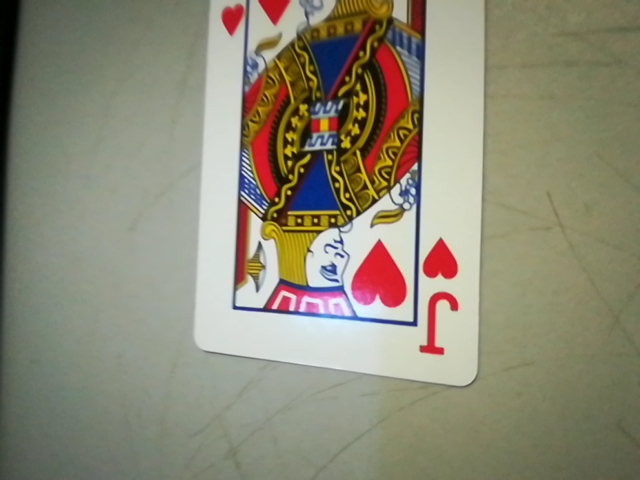hx j: (414, 232, 471, 364)
